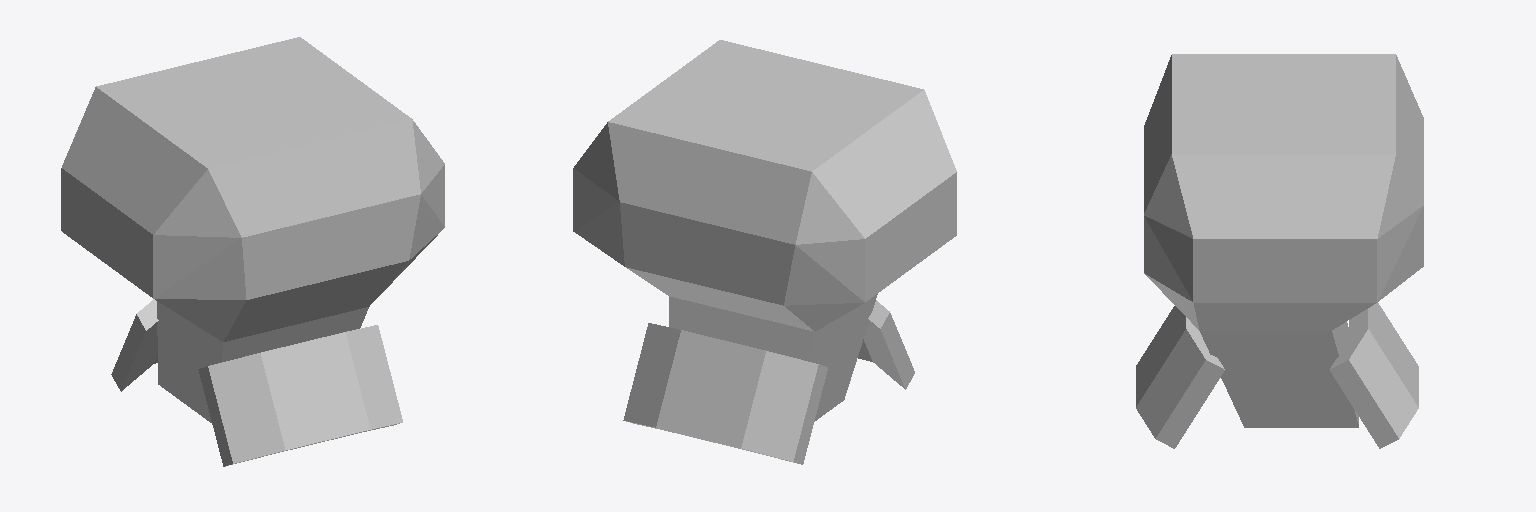
The model's file is robotBody.obj.
3 renders of one model, left to right at view 1: azimuth 30°, elevation 25°; view 2: azimuth 150°, elevation 25°; view 3: azimuth 270°, elevation 25°, orthographic.
Parts seen in each view (by area): view 1: robotBody:pCube4; view 2: robotBody:pCube4; view 3: robotBody:pCube4.
Part boxes in pixels (bbox=[...]): robotBody:pCube4: bbox=[61, 37, 444, 466]; robotBody:pCube4: bbox=[573, 40, 956, 464]; robotBody:pCube4: bbox=[1136, 54, 1423, 448].
Bounding box in the file's own units: 1.2 × 1.19 × 1.03.